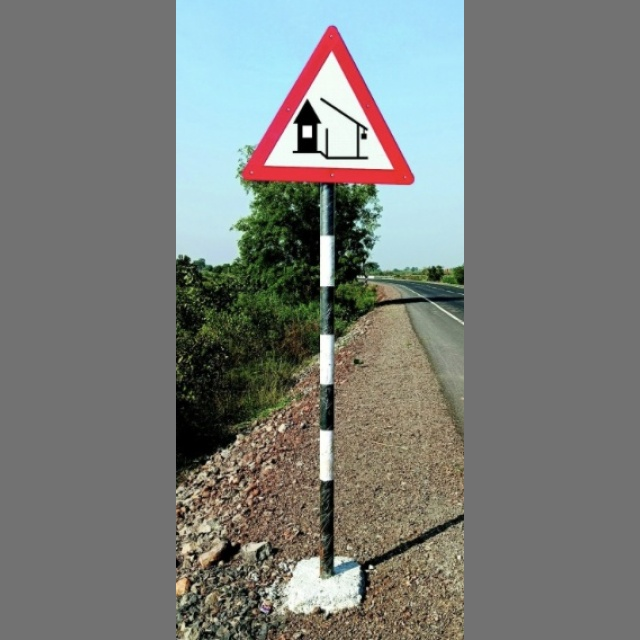Side_Road_Left: (261, 95, 385, 212)
